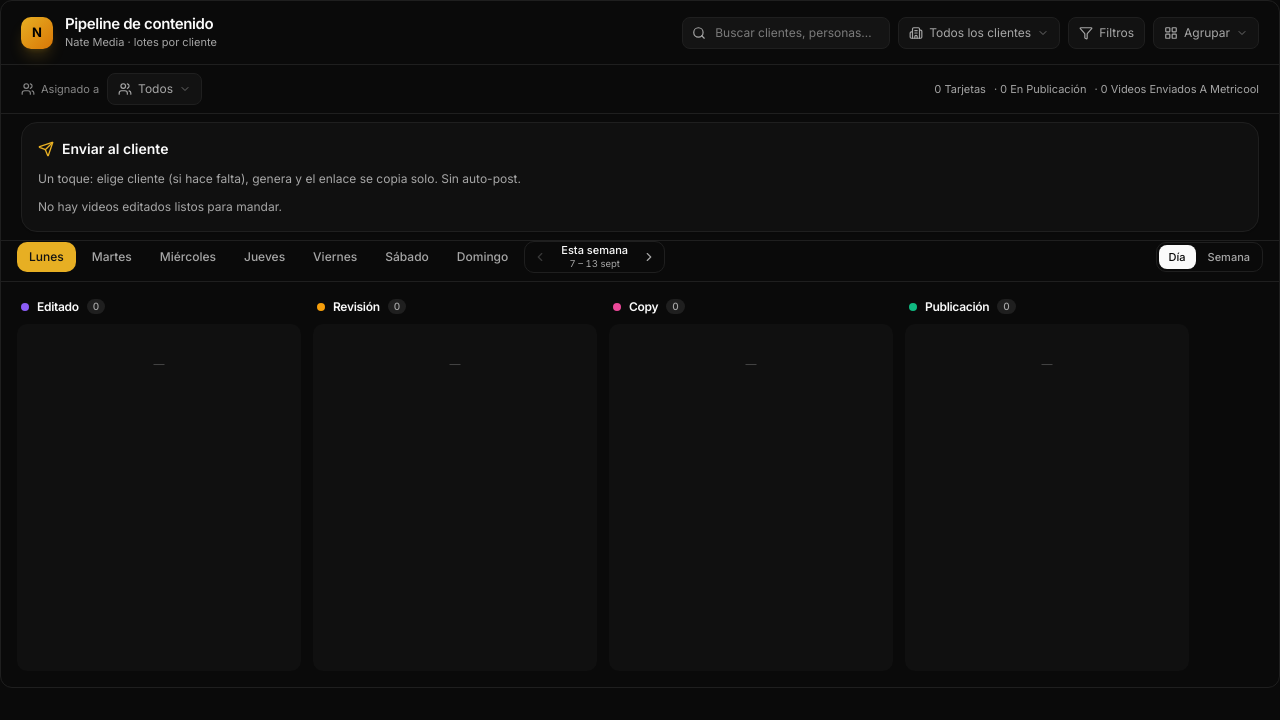
EntregasBoard — batch model › la tarjeta de Publicación dice cuándo cae el borrador en Metricool
The image size is (1280, 720).
Click the button named "Semana siguiente": {"x": 649, "y": 257} [636,246,662,268]
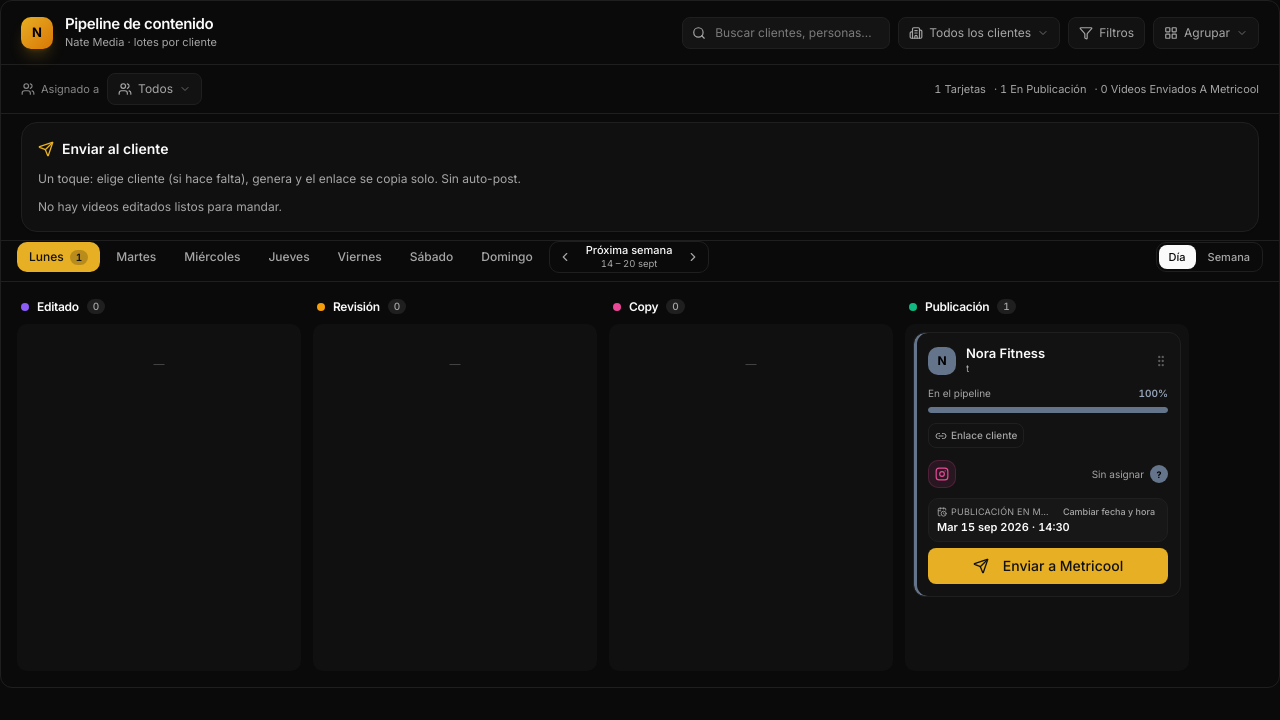
Now the text "Publicación en Metricool" is shown, box [951,505,1051,519]
Now the text "Mar 15 sep 2026 · 14:30" is shown, box [937,520,1070,534]
